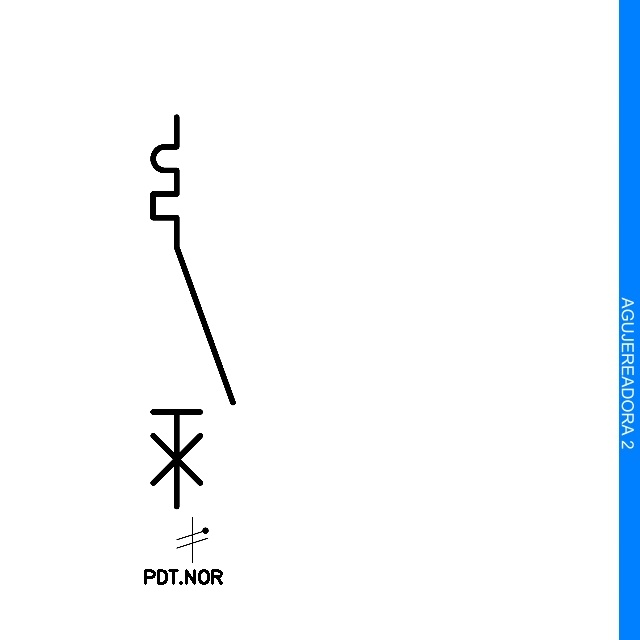interruptor_termomagnetico: (143, 107, 243, 517)
